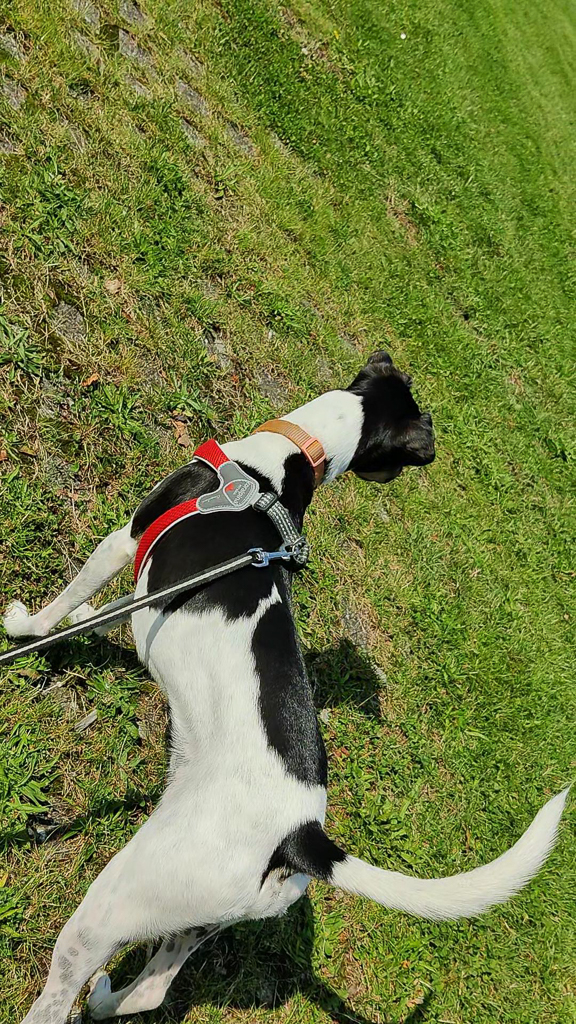Dog: (0, 333, 576, 1024)
